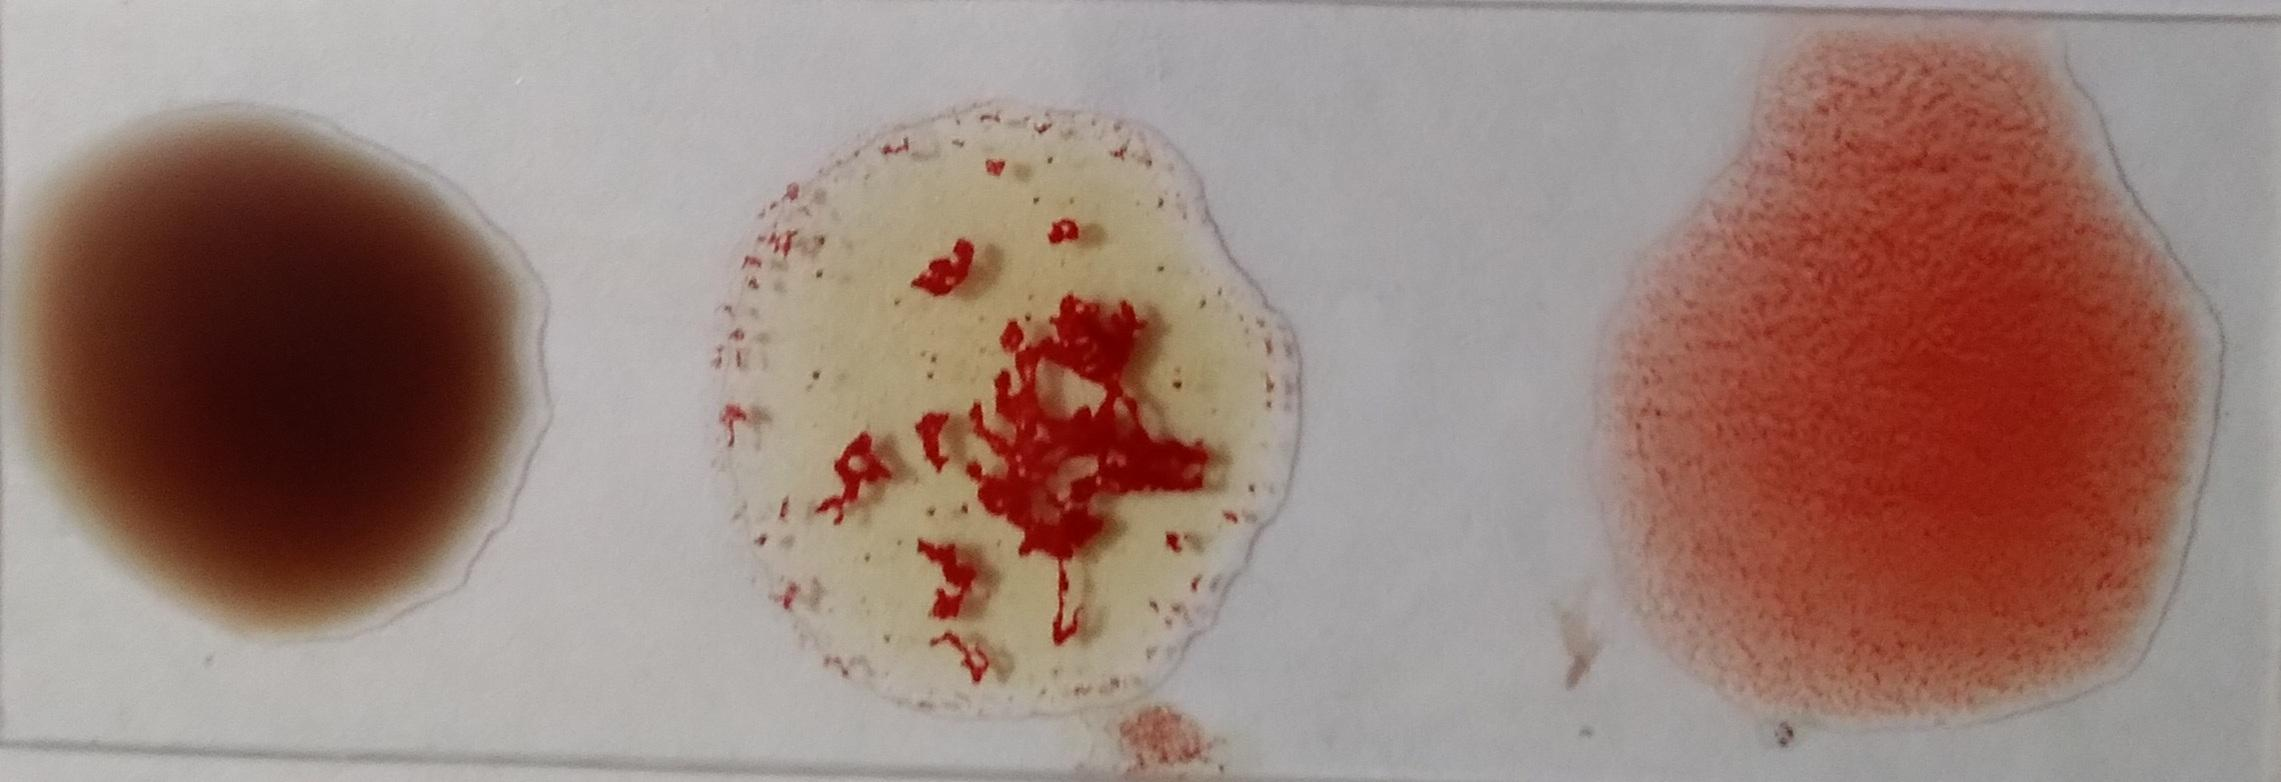B: (726, 89, 1282, 714)
D: (1578, 41, 2224, 709)
